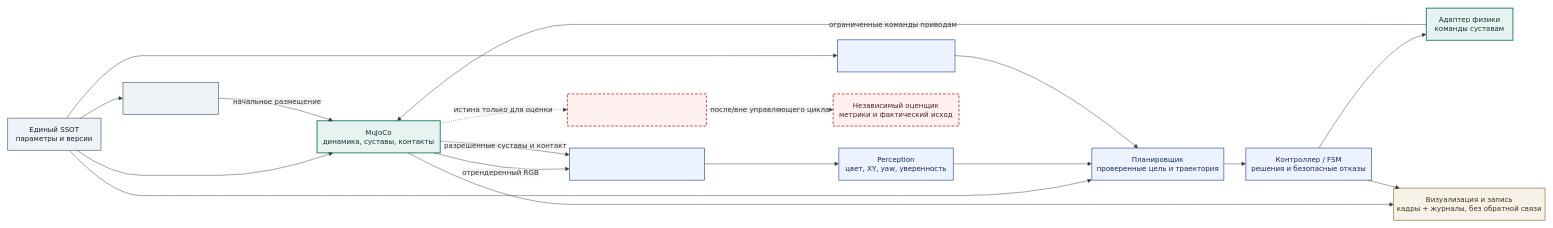
The diagram is 1553 pixels wide and 228 high, and some of its shapes have lost their labels. Here are the shapes that lost their labels. From the top down, the centre of each, then its label:
At pixel 896 55: "Кинематика FK/IK, пределы сочленений".
At pixel 170 98: "Генератор сцены конфигурация + seed".
At pixel 637 109: "Изолированное хранилище истинный цвет, поза, ID, контакты".
At pixel 637 164: "Адаптер сенсоров RGB-кадр, разрешенные сигналы".
